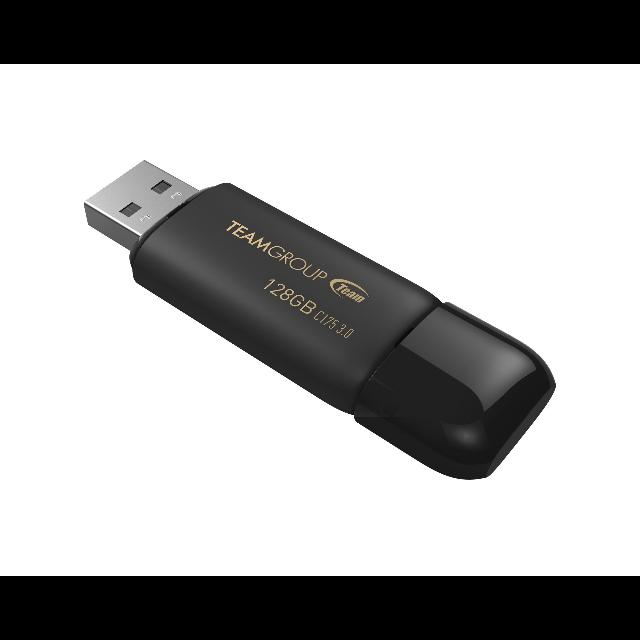USB-Flash-Drive: (83, 161, 558, 483)
